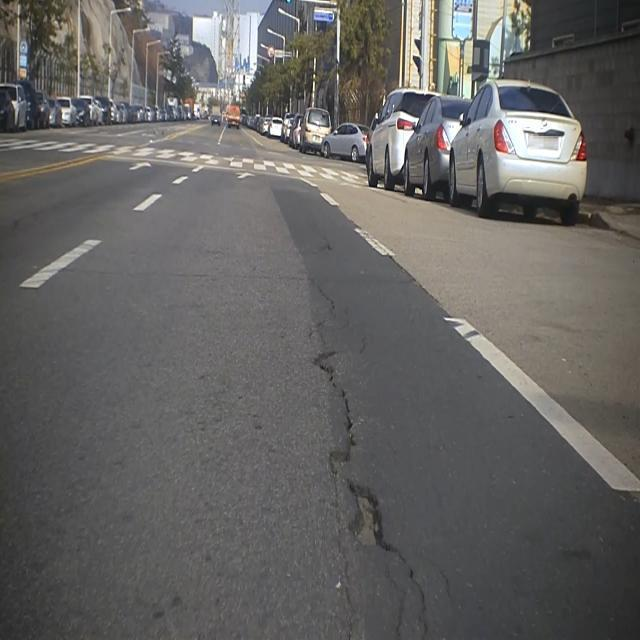Buraco: (308, 349, 361, 477), (343, 482, 401, 554)
